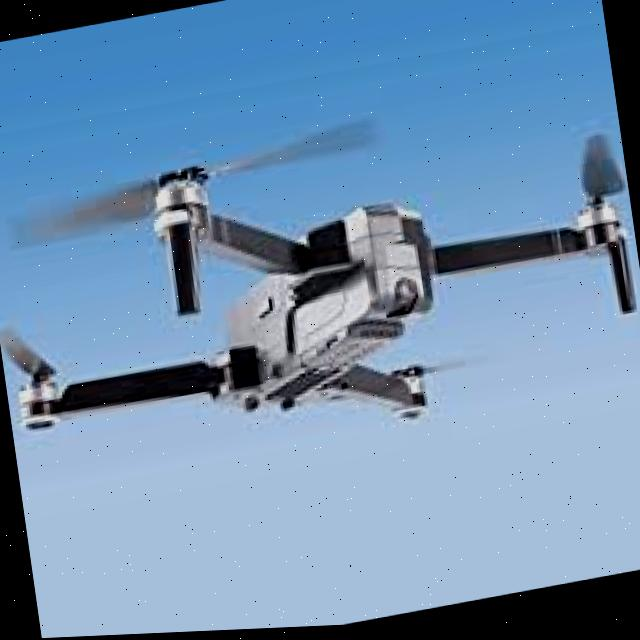drone: (0, 39, 640, 510)
